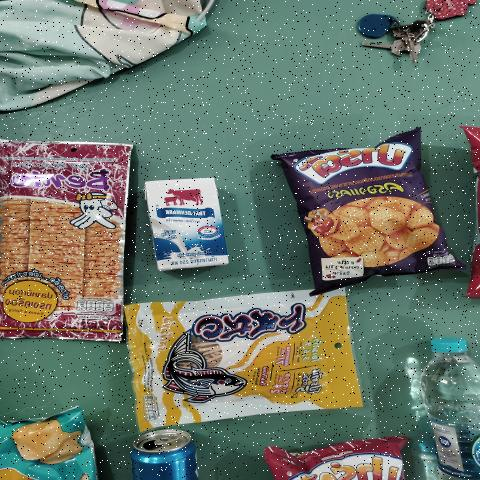bento_red: (0, 145, 121, 340)
party_purple: (311, 140, 420, 283)
taro_yellow: (137, 289, 339, 424)
thai_denmark: (148, 182, 222, 262)
